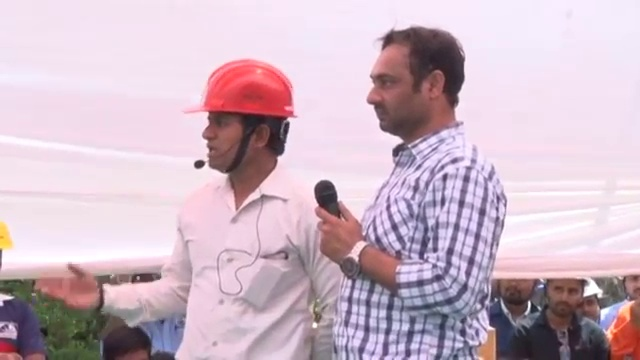helmet: (185, 54, 301, 124), (0, 219, 19, 251), (580, 276, 604, 298)
helmet_off: (365, 26, 468, 135), (97, 326, 153, 360), (542, 280, 585, 322), (500, 274, 537, 308), (616, 272, 640, 306)
helmet_on: (189, 58, 299, 181), (0, 218, 18, 279), (580, 277, 604, 322)
person: (95, 49, 346, 354), (330, 20, 520, 356), (521, 279, 615, 358), (0, 217, 45, 360), (486, 268, 553, 347), (606, 267, 640, 357)
